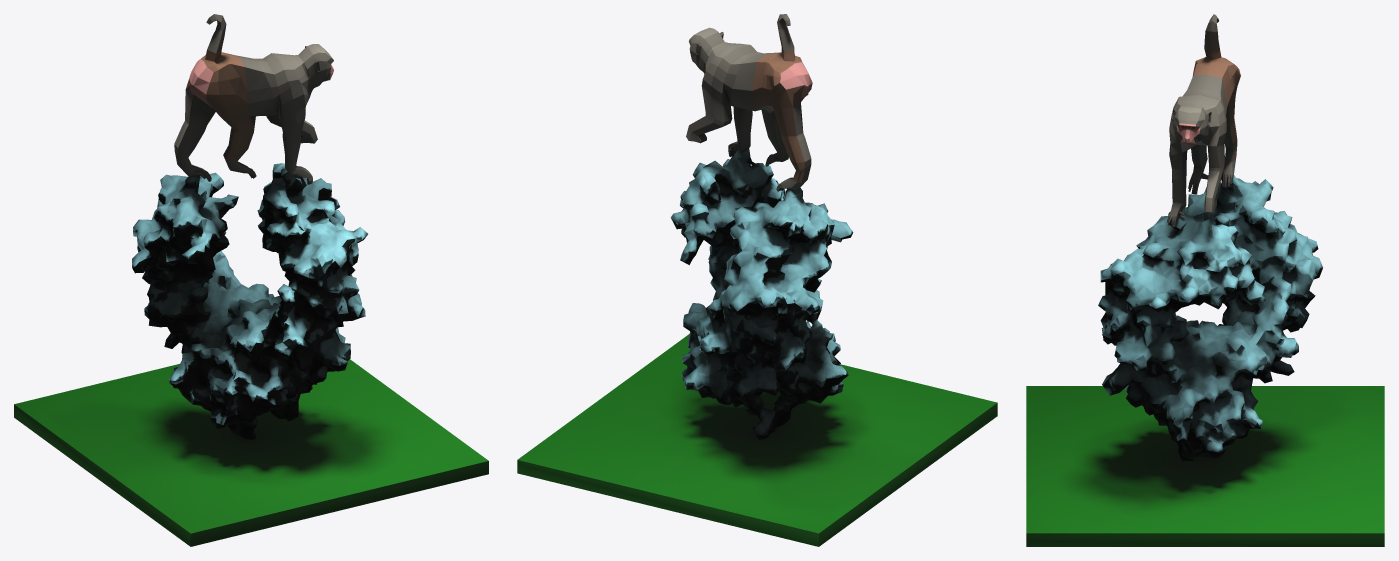
Rendered from rhesus-rh.glb.
The picture shows the model from 3 angles, left to right: view 1: azimuth 30°, elevation 25°; view 2: azimuth 150°, elevation 25°; view 3: azimuth 270°, elevation 25°; orthographic projection.
Parts seen in each view (by area): view 1: Rhesus.000, Anti-D.001; view 2: Rhesus.000, Anti-D.001; view 3: Rhesus.000, Anti-D.001.
Part boxes in pixels (bbox=[...]): Rhesus.000: bbox=[14, 14, 488, 546]; Anti-D.001: bbox=[132, 163, 367, 439]; Rhesus.000: bbox=[517, 14, 997, 546]; Anti-D.001: bbox=[670, 148, 853, 439]; Rhesus.000: bbox=[1026, 14, 1384, 546]; Anti-D.001: bbox=[1098, 172, 1322, 461].
Size of the model in its own units: 1.17 by 1.64 by 1.2.
Materials: 2 (2 with a texture image).
